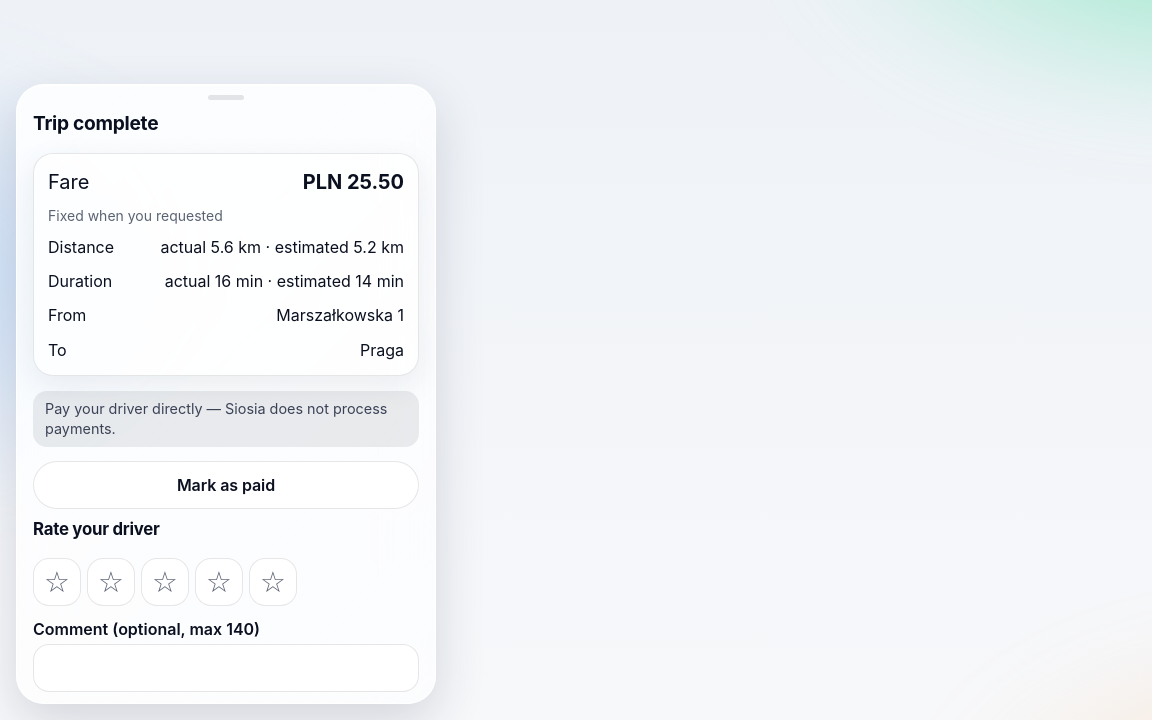
Scenario: R4 Receipt / D4 Summary › shows the frozen fare next to actual totals and rates once
Expected: the element with test id "receipt-fare" shows "25.50", [303,170,404,194]
Expected: the text "actual 5.6 km · estimated 5.2 km" is shown, [160,236,404,258]
Click the radio button named "4 of 5 stars": (219, 582) [195,558,243,606]
(page scrolled)
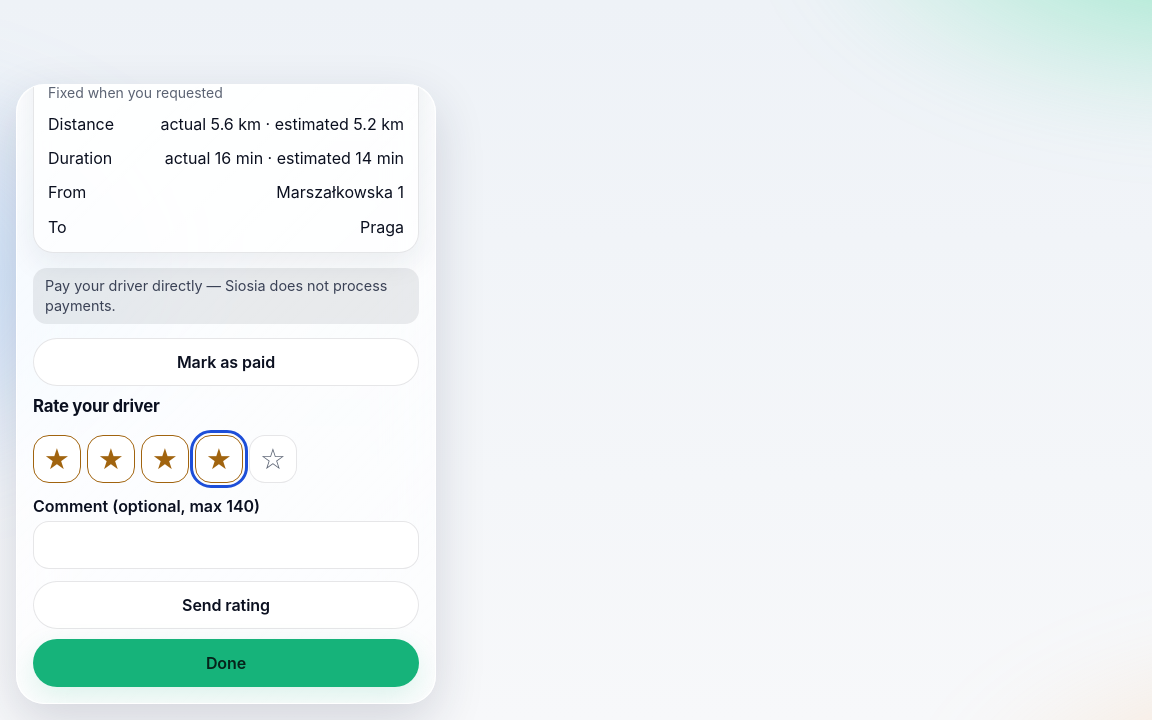
Click the button with test id "send-rating": (226, 605) [33,581,419,629]
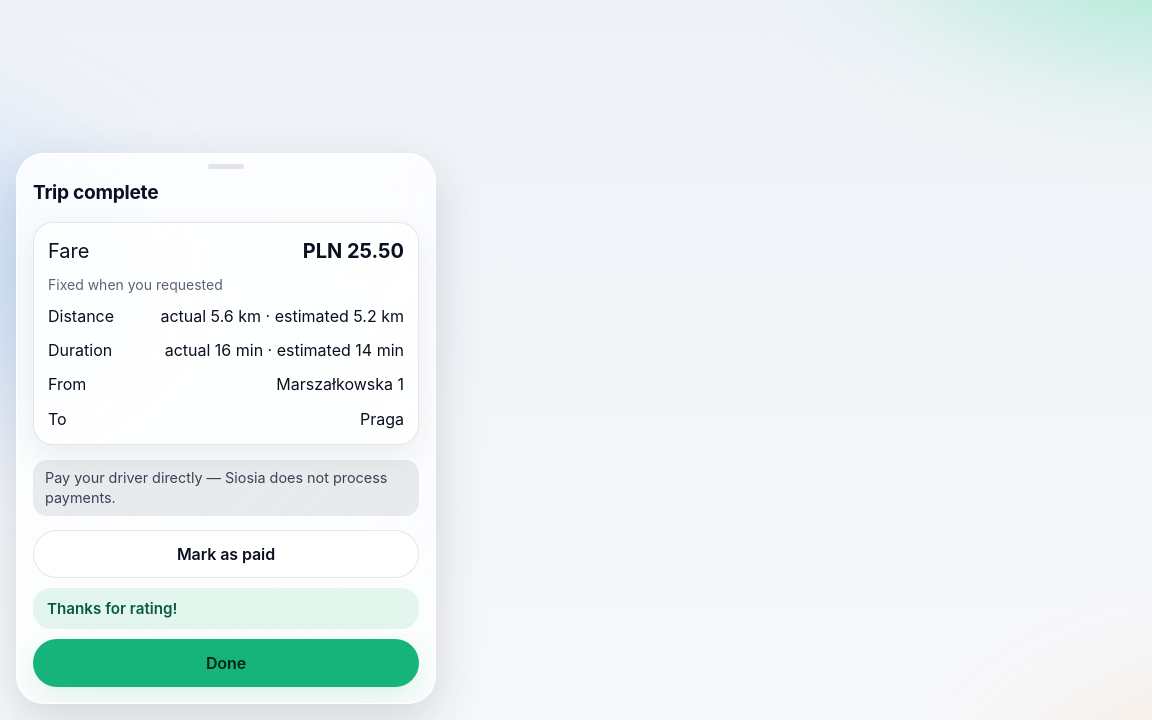
Expected: the text "Thanks for rating!" is shown, [33,588,419,629]
